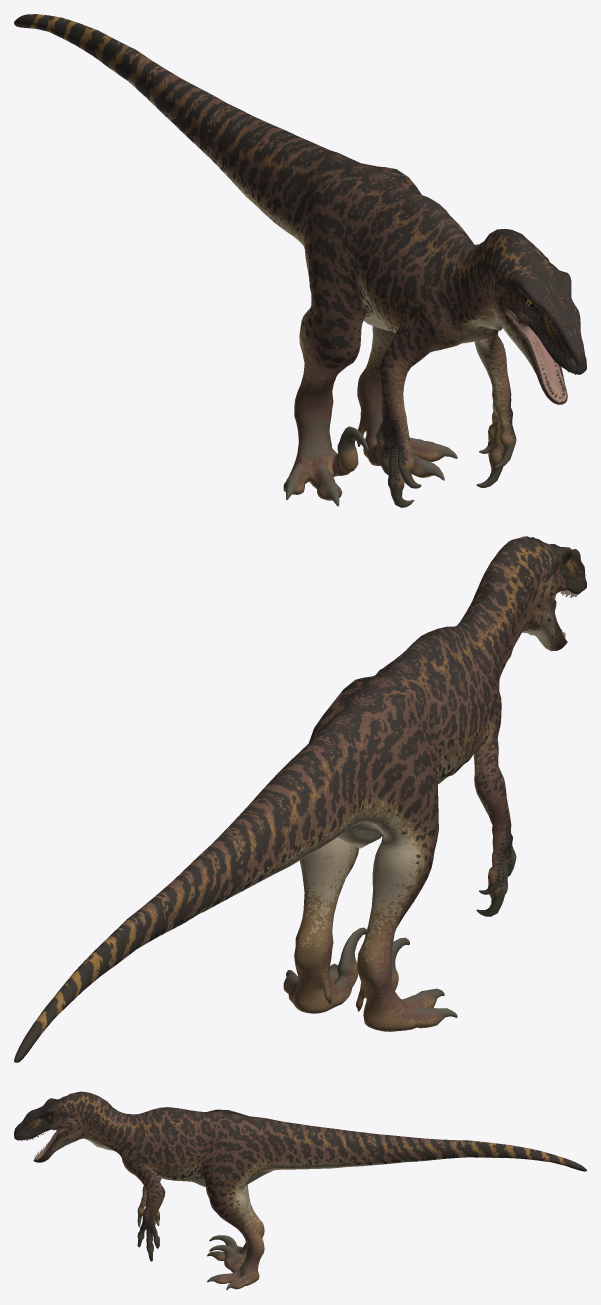
File: Velociraptor_Omniraptor.glb
3 renders of one model, top to bottom at view 1: azimuth 30°, elevation 25°; view 2: azimuth 150°, elevation 25°; view 3: azimuth 270°, elevation 25°, orthographic. The views are drawn at different scales.
Visible parts, largest first — view 1: DW_Velociraptor_Omniraptor_Adulto_Mayor_mesh; view 2: DW_Velociraptor_Omniraptor_Adulto_Mayor_mesh; view 3: DW_Velociraptor_Omniraptor_Adulto_Mayor_mesh.
Part boxes in pixels (bbox=[...]): DW_Velociraptor_Omniraptor_Adulto_Mayor_mesh: bbox=[14, 14, 586, 507]; DW_Velociraptor_Omniraptor_Adulto_Mayor_mesh: bbox=[14, 536, 586, 1062]; DW_Velociraptor_Omniraptor_Adulto_Mayor_mesh: bbox=[14, 1091, 586, 1290].
Bounding box in the file's own units: 0.1741 × 0.3455 × 1.
2 materials, 2 textured.
